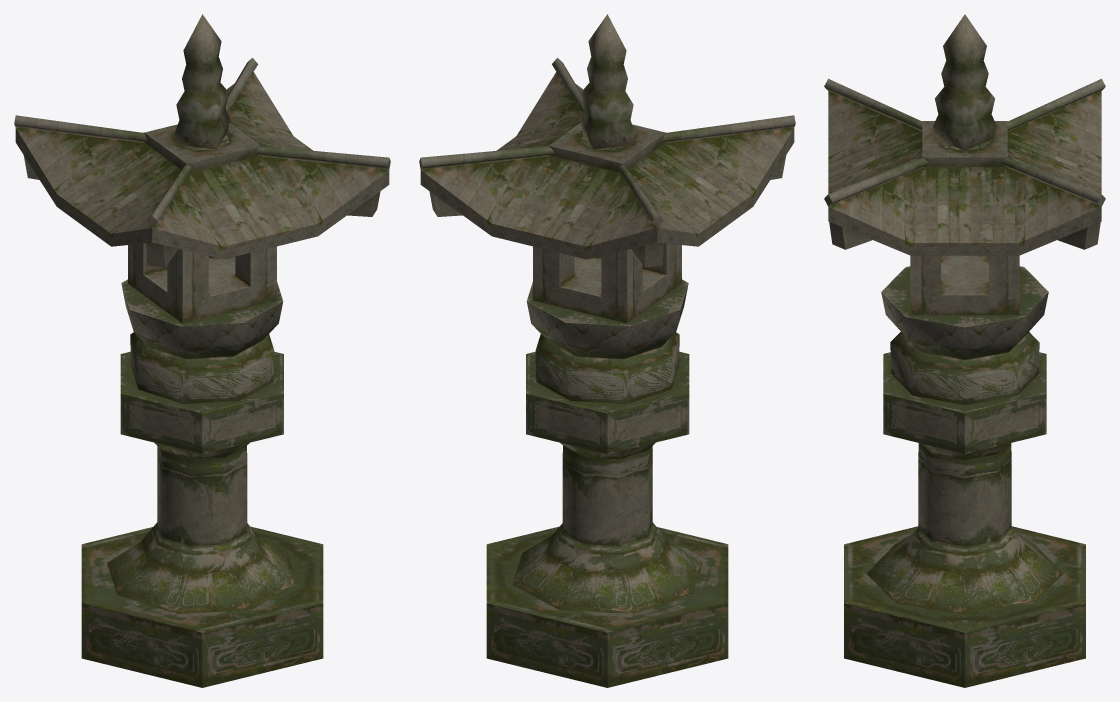
The model's file is i_zx_shideng01_lod1.FBX.
3 renders of one model, left to right at view 1: azimuth 30°, elevation 25°; view 2: azimuth 150°, elevation 25°; view 3: azimuth 270°, elevation 25°, orthographic.
Parts seen in each view (by area): view 1: i_zx_shideng01_lod1; view 2: i_zx_shideng01_lod1; view 3: i_zx_shideng01_lod1.
Boxes of the visible parts, x1,y1,x2,y2 form: i_zx_shideng01_lod1: [14, 14, 390, 687]; i_zx_shideng01_lod1: [419, 14, 795, 687]; i_zx_shideng01_lod1: [824, 14, 1105, 687].
Bounding box in the file's own units: 0.9235 × 2.22 × 0.9235.
